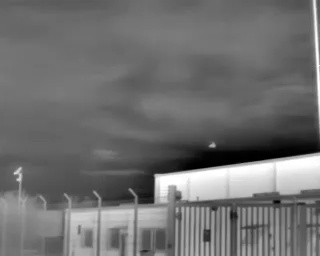HELICOPTER: (205, 138, 221, 152)
